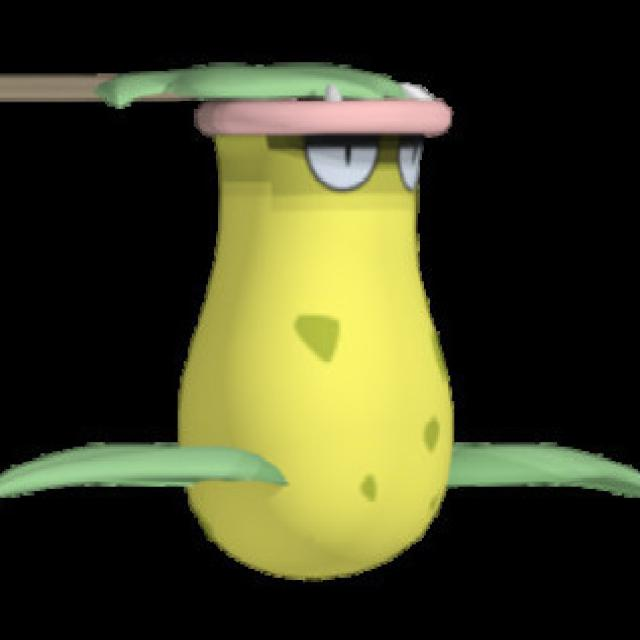Victreebel: (162, 76, 462, 577)
